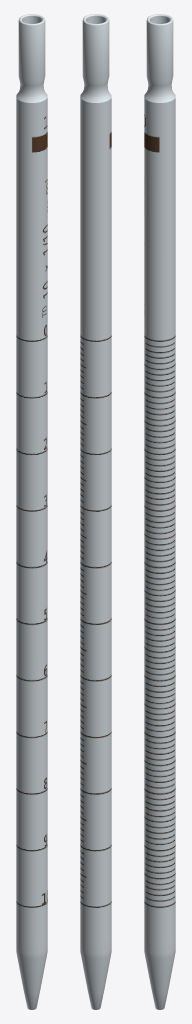
The model's file is pipette.glb.
The picture shows the model from 3 angles, left to right: view 1: azimuth 90°, elevation 25°; view 2: azimuth 150°, elevation 25°; view 3: azimuth 270°, elevation 25°; orthographic projection.
Visible parts, largest first — view 1: model_0; view 2: model_0; view 3: model_0.
Boxes of the visible parts, box(x1,y1,x2,y2) form: model_0: box(16, 14, 47, 1009); model_0: box(80, 14, 111, 1009); model_0: box(144, 14, 175, 1009).
Bounding box in the file's own units: 0.0081 × 0.2795 × 0.0081.
Materials: 1 (1 with a texture image).
